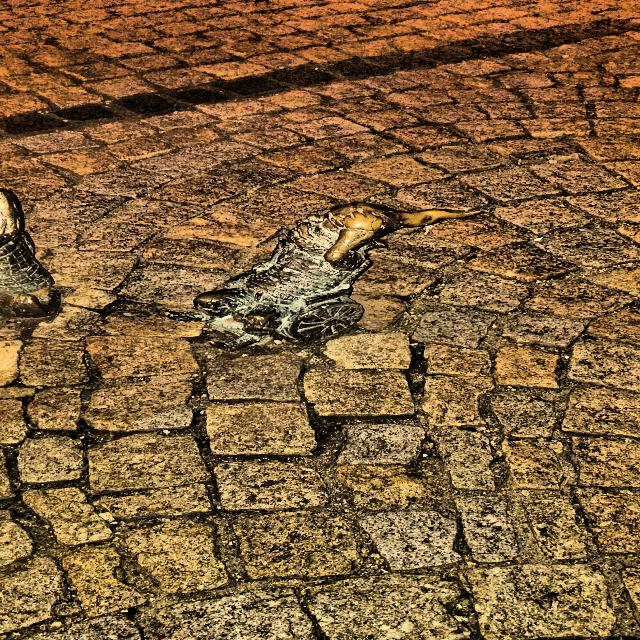W-Skers: (164, 203, 483, 352)
